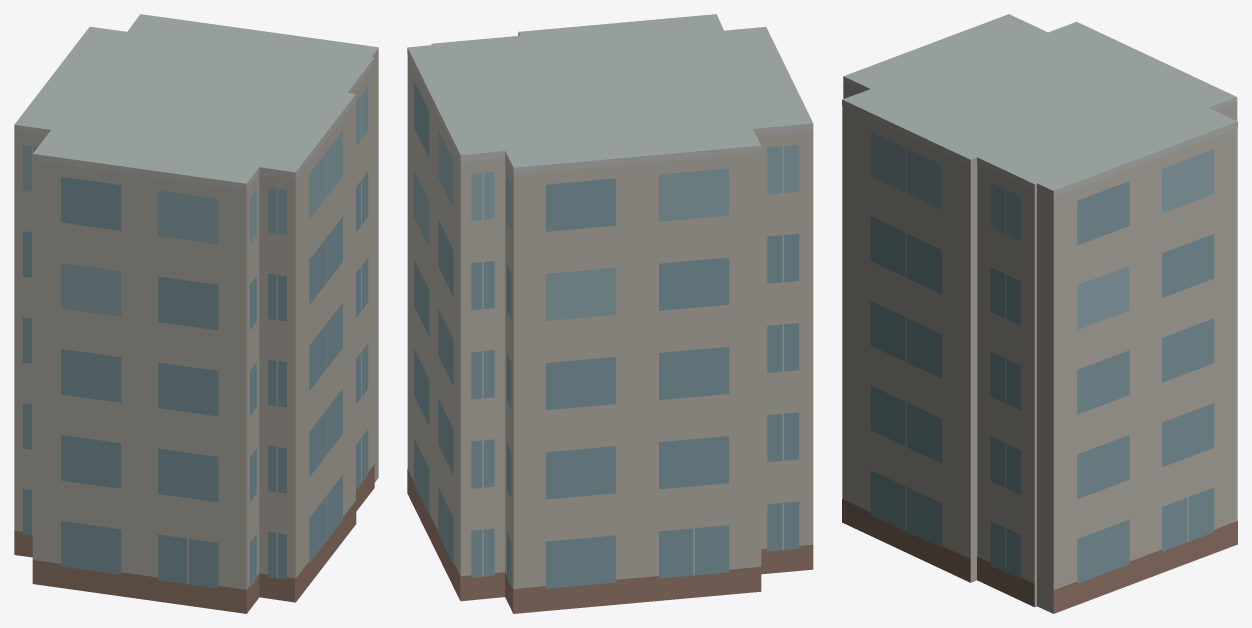
Rendered from survey-upis-32720717.glb.
The picture shows the model from 3 angles, left to right: view 1: azimuth 30°, elevation 25°; view 2: azimuth 150°, elevation 25°; view 3: azimuth 270°, elevation 25°; orthographic projection. The views are drawn at different scales.
Parts seen in each view (by area): view 1: survey-upis-32720717.tmp; view 2: survey-upis-32720717.tmp; view 3: survey-upis-32720717.tmp.
Part boxes in pixels (x1,y1,x2,y2): survey-upis-32720717.tmp: [14, 14, 378, 613]; survey-upis-32720717.tmp: [407, 14, 813, 613]; survey-upis-32720717.tmp: [842, 14, 1237, 613].
Size of the model in its own units: 14.36 by 16 by 13.57.
